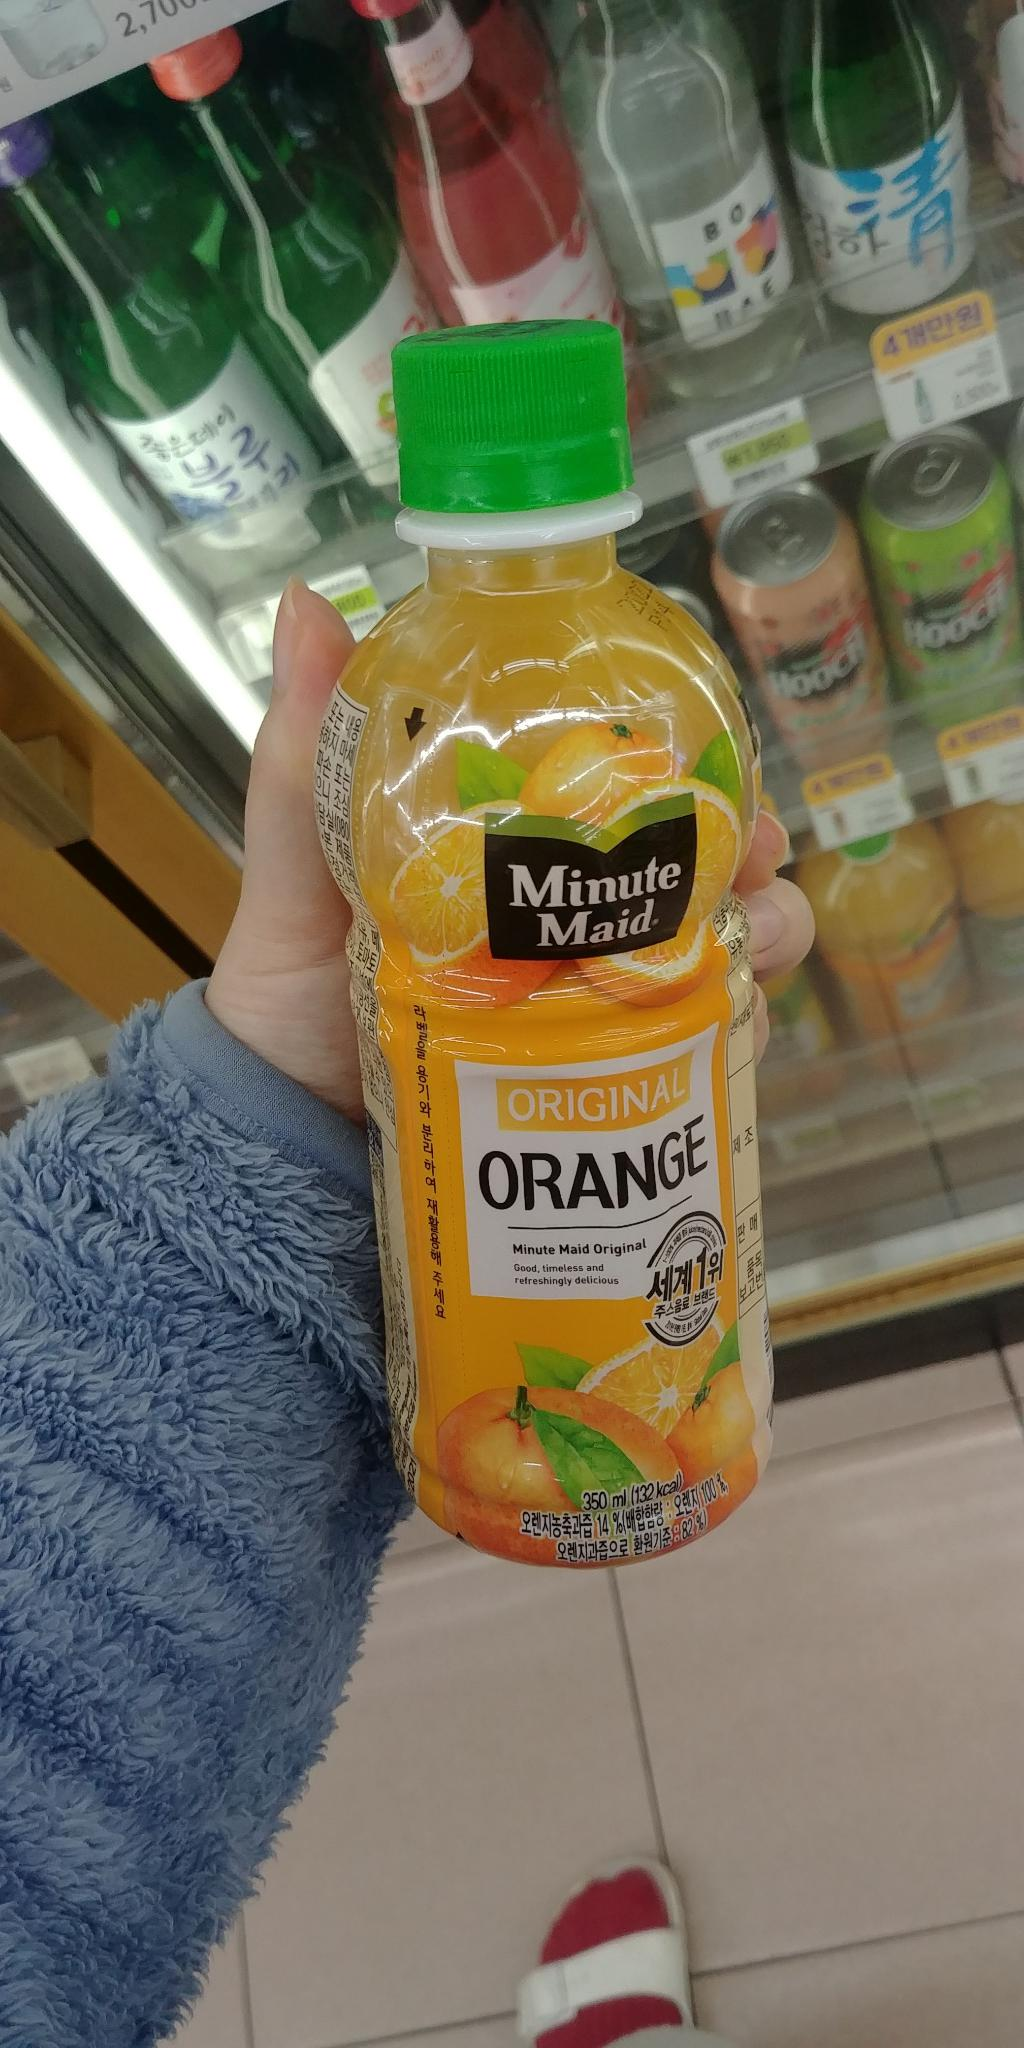minutemaid_org_orange: (316, 306, 808, 1595)
